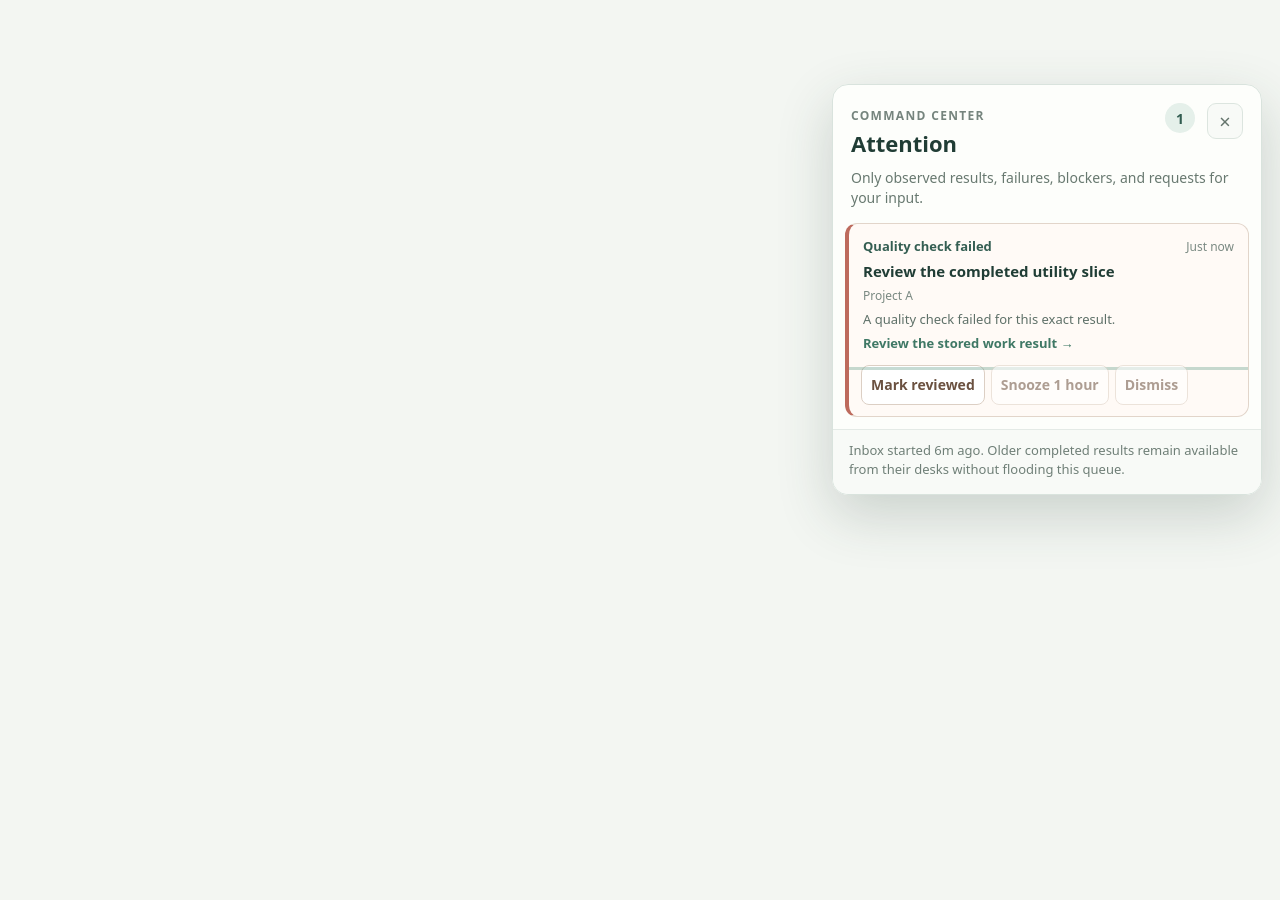
Test: Review & Act dialog interaction › reports a failed verification-alert review write and keeps focus in the inbox
The image size is (1280, 900).
Click the button "Mark reviewed": (923, 385) [861,365,985,405]
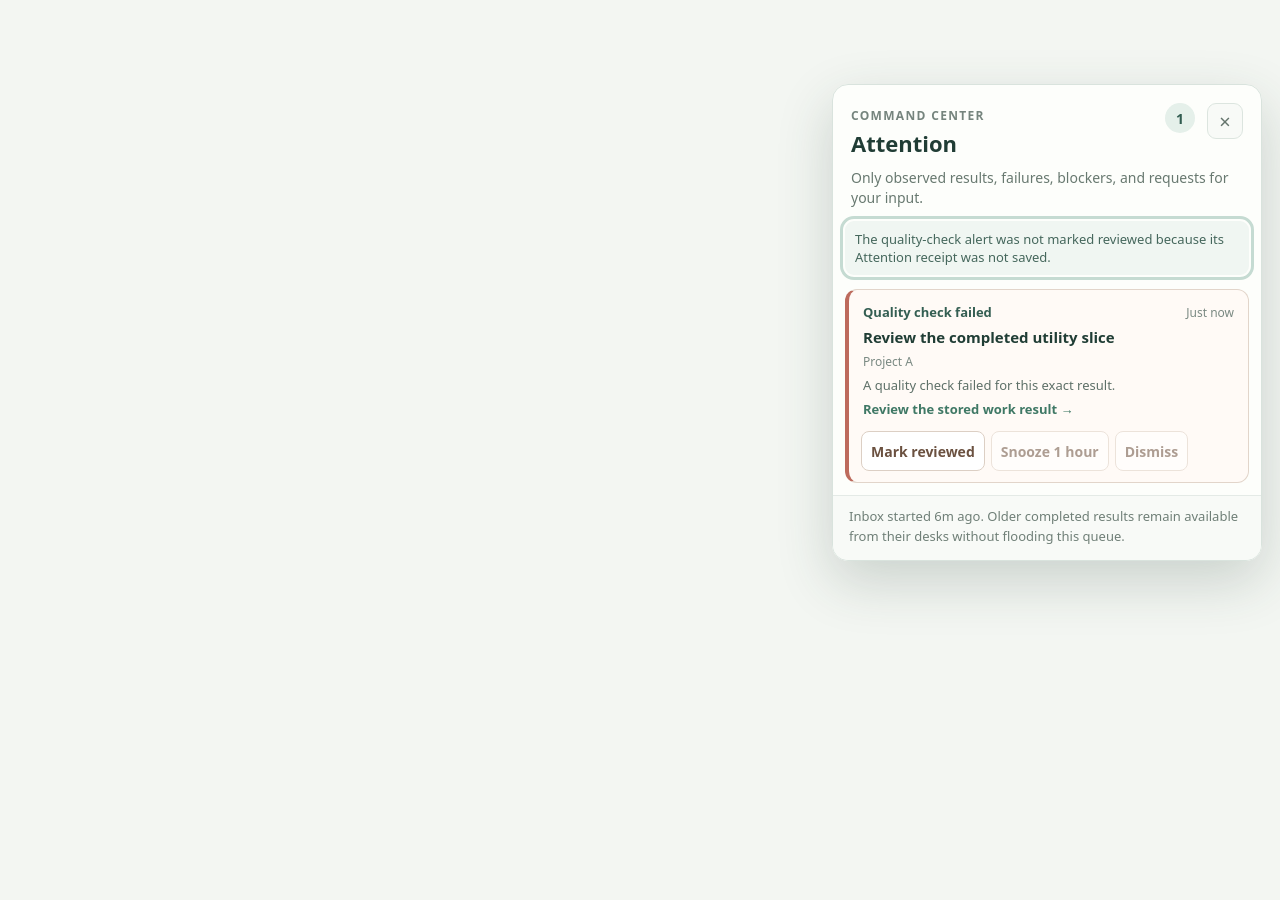
expect the button "Mark reviewed" is shown: met, box [861,431,985,471]
expect the message shows "was not marked reviewed because its Attention receipt was not saved": met, box [855,230,1224,266]
